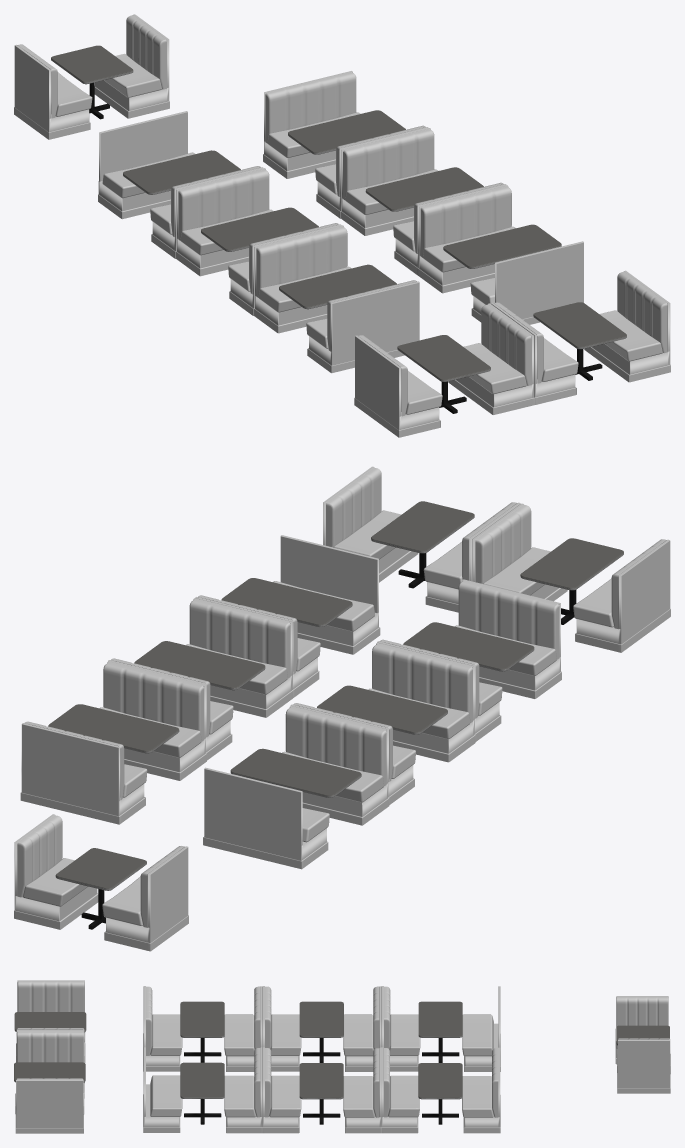
Rendered from Table_Group_Final.fbx.
3 views of the same model, one above another, from view 1: azimuth 30°, elevation 25°; view 2: azimuth 150°, elevation 25°; view 3: azimuth 270°, elevation 25° (orthographic). The views are drawn at different scales.
Parts seen in each view (by area): view 1: Table_Group_Final; view 2: Table_Group_Final; view 3: Table_Group_Final.
Part boxes in pixels (x1,y1,x2,y2): Table_Group_Final: (14, 14, 670, 437); Table_Group_Final: (14, 466, 670, 951); Table_Group_Final: (14, 980, 670, 1133).
Bounding box in the file's own units: 5.63 × 1.38 × 15.42.
